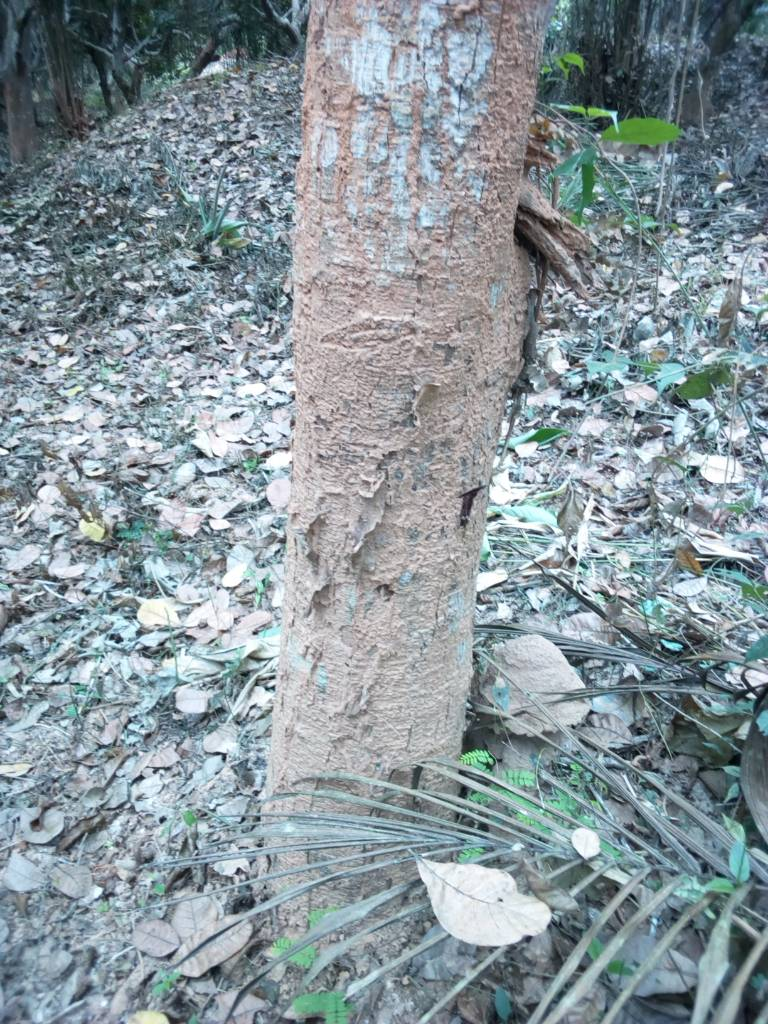Termites: (294, 116, 497, 792)
